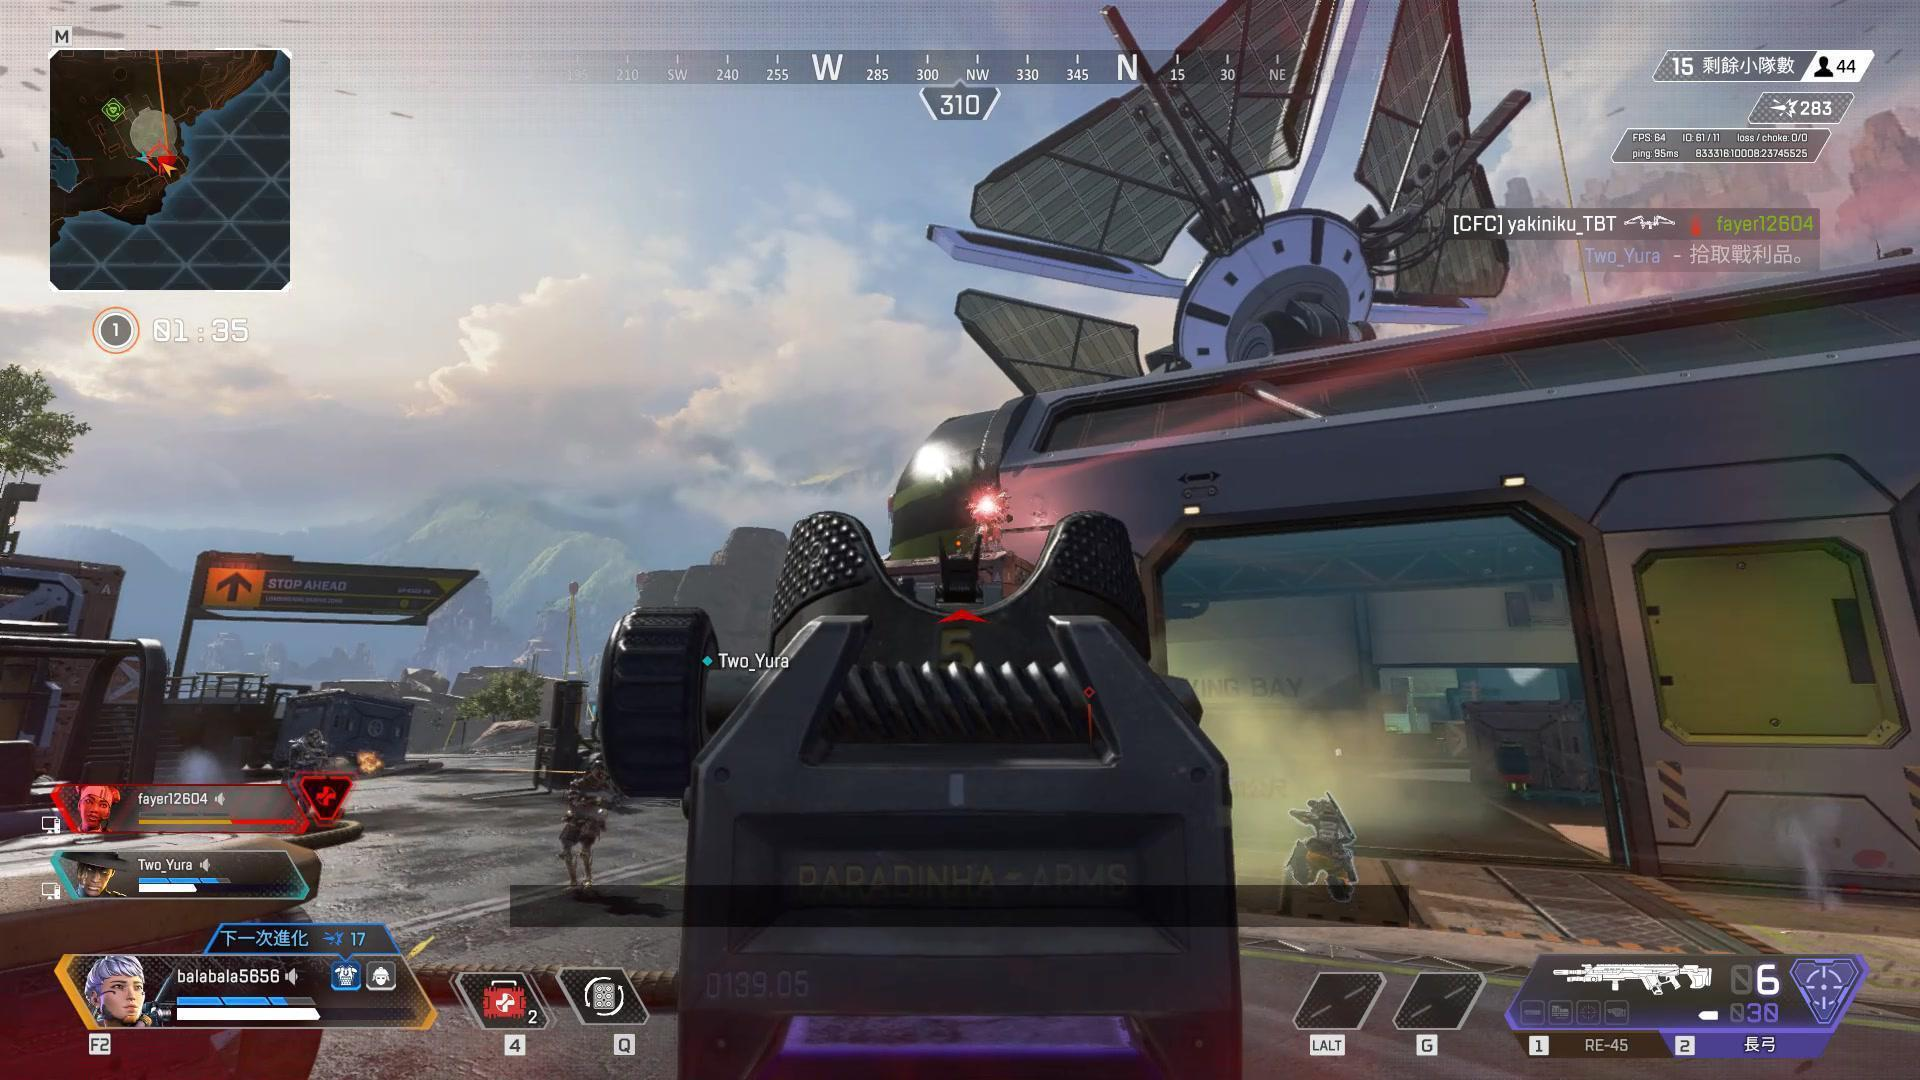avatar: (1288, 791, 1360, 905), (556, 759, 612, 888)
object: (972, 491, 1001, 525)
